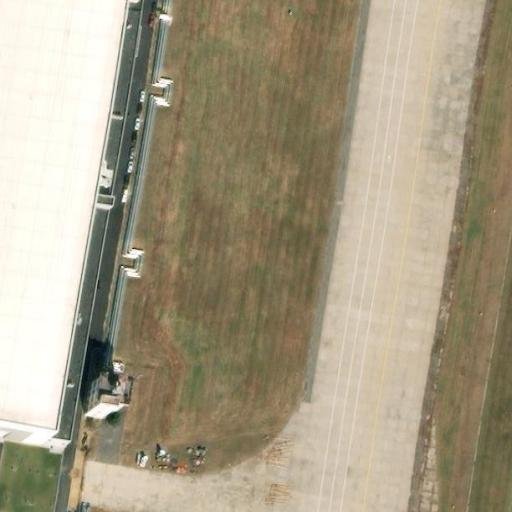building: (0, 0, 127, 442)
